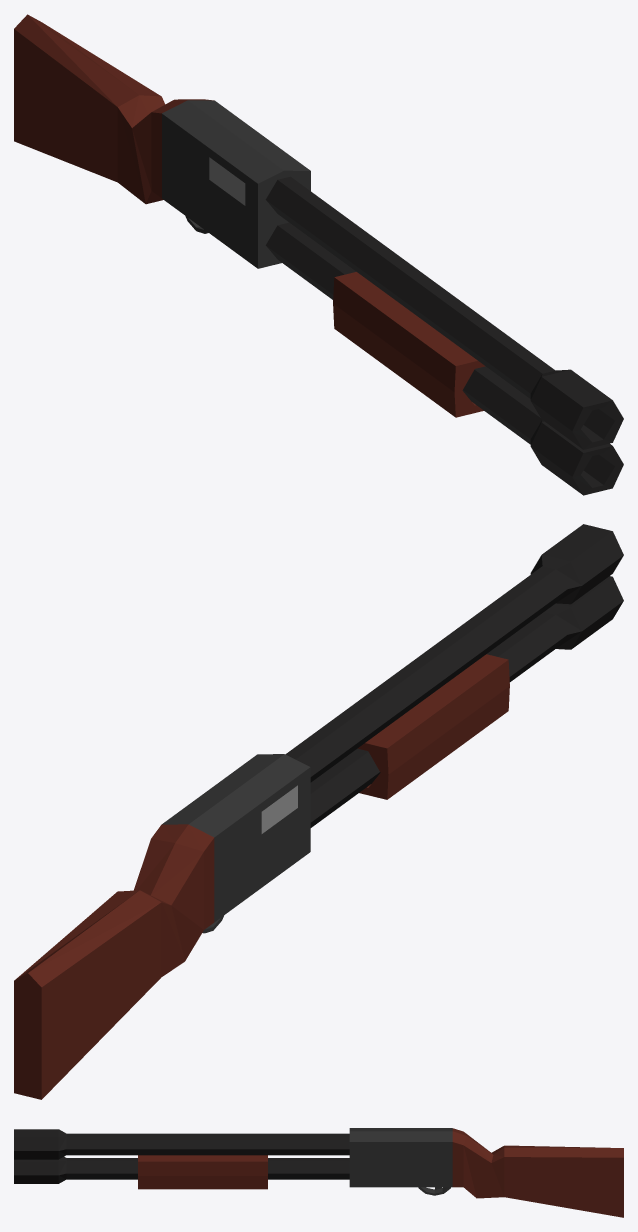
Rendered from Shotgun.FBX.
The picture shows the model from 3 angles, top to bottom: view 1: azimuth 30°, elevation 25°; view 2: azimuth 150°, elevation 25°; view 3: azimuth 270°, elevation 25°; orthographic projection. The views are drawn at different scales.
Parts seen in each view (by area): view 1: Box007, pump; view 2: Box007, pump; view 3: Box007, pump.
Part boxes in pixels (x1,y1,x2,y2): Box007: (14, 14, 623, 495); pump: (333, 272, 485, 417); Box007: (14, 524, 623, 1099); pump: (358, 654, 509, 799); Box007: (14, 1128, 623, 1217); pump: (138, 1155, 267, 1189).
Bounding box in the file's own units: 8.49 × 22.85 × 152.
